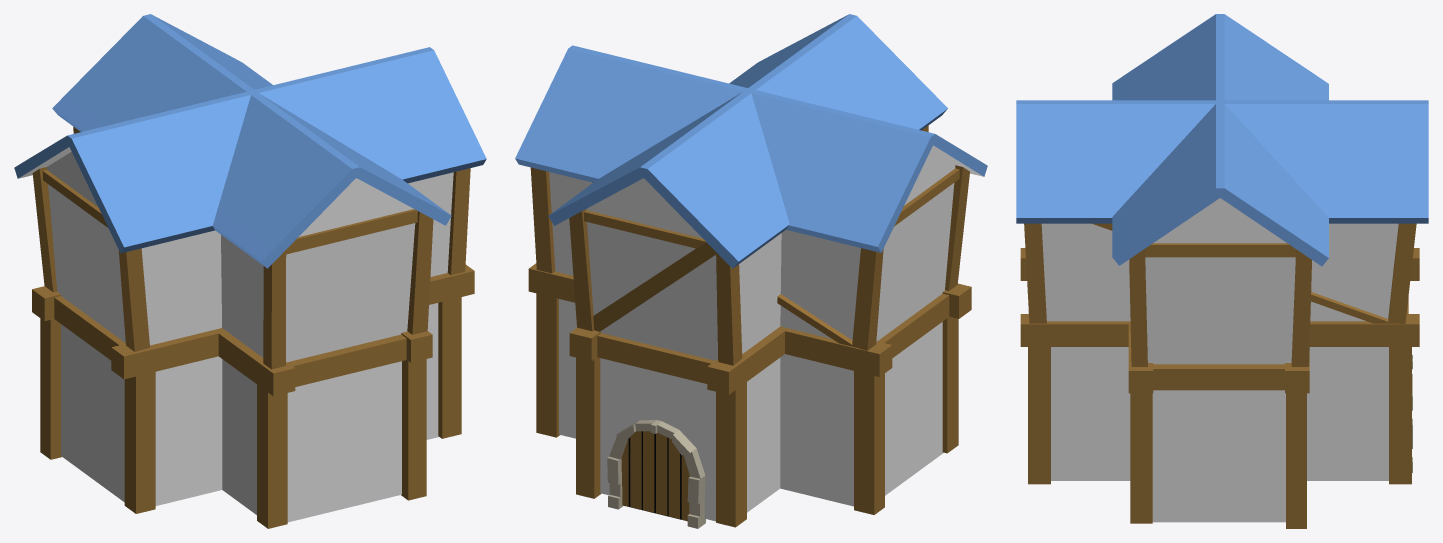
The model's file is med_housevariant3.fbx.
3 renders of one model, left to right at view 1: azimuth 30°, elevation 25°; view 2: azimuth 150°, elevation 25°; view 3: azimuth 270°, elevation 25°, orthographic.
Parts seen in each view (by area): view 1: House, House.001, Roof.001, Roof, Beams.001, Beams; view 2: House.001, Roof.001, House, Roof, Beams.001, Beams, Doorpanels, Doorframe, Door; view 3: Roof, House.001, House, Roof.001, Beams, Beams.001.
Part boxes in pixels (x1,y1,x2,y2): House: [221, 178, 415, 522]; House.001: [18, 147, 453, 505]; Roof.001: [14, 47, 486, 253]; Roof: [52, 14, 451, 268]; Beams.001: [32, 167, 474, 513]; Beams: [73, 126, 433, 528]; House.001: [549, 145, 983, 506]; Roof.001: [515, 45, 987, 252]; House: [586, 178, 781, 521]; Roof: [548, 14, 947, 268]; Beams.001: [528, 165, 971, 514]; Beams: [569, 125, 928, 527]; Doorpanels: [621, 431, 689, 520]; Doorframe: [607, 420, 705, 528]; Door: [623, 431, 687, 521]; Roof: [1016, 100, 1428, 223]; House.001: [1145, 198, 1295, 522]; House: [1041, 223, 1398, 480]; Roof.001: [1112, 14, 1328, 266]; Beams: [1020, 223, 1419, 484]; Beams.001: [1128, 243, 1311, 528].
Bounding box in the file's own units: 503 × 503 × 471.
